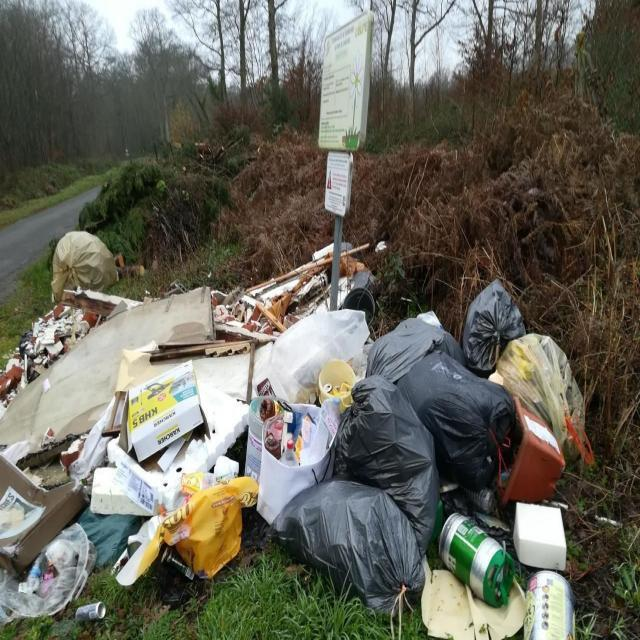garbage: (0, 227, 623, 636)
